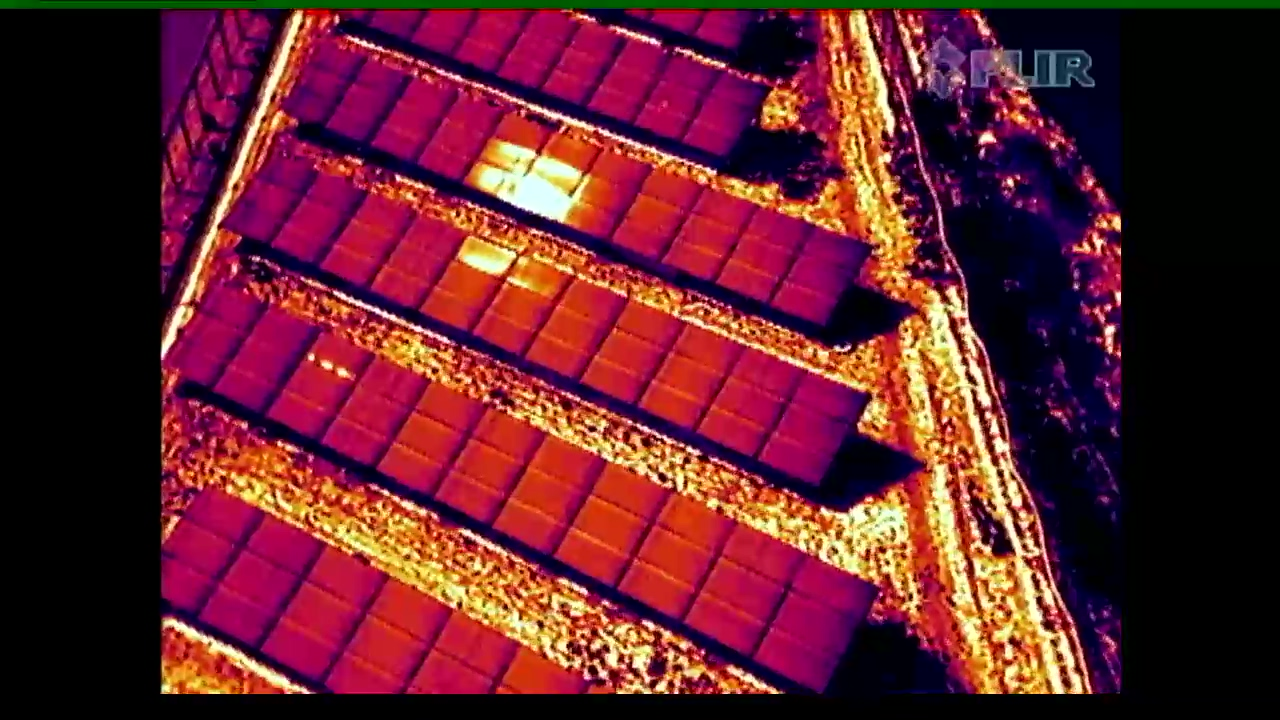hotspot: (267, 331, 368, 447)
